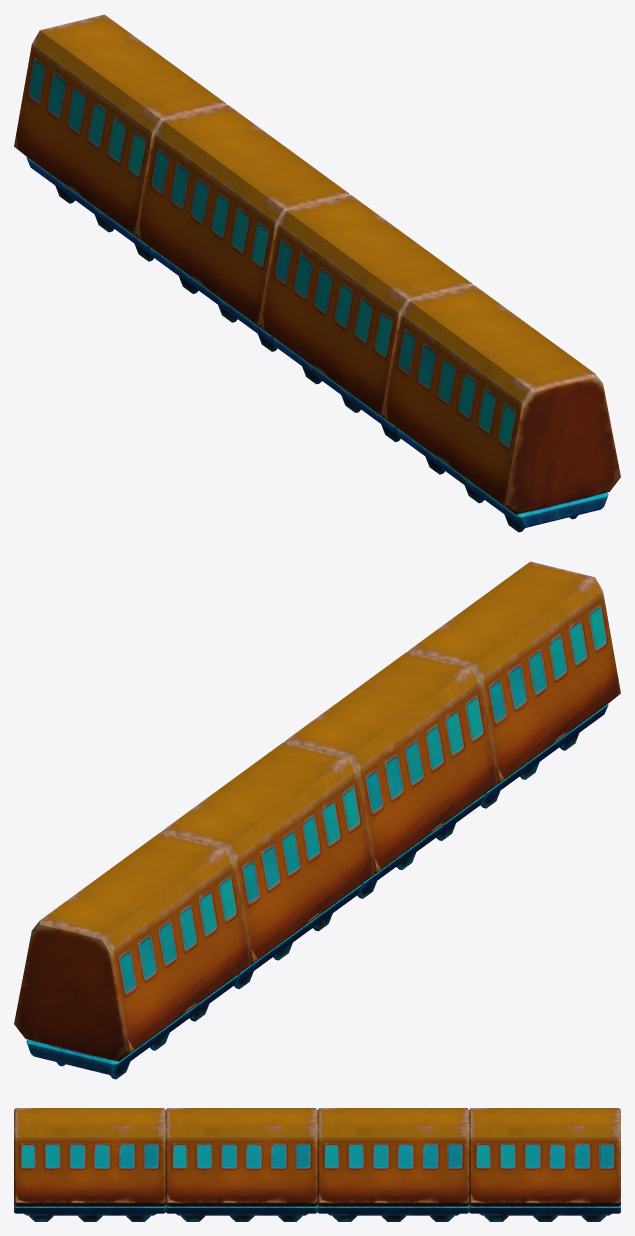
Rendered from env-train.glb.
3 renders of one model, top to bottom at view 1: azimuth 30°, elevation 25°; view 2: azimuth 150°, elevation 25°; view 3: azimuth 270°, elevation 25°, orthographic. The views are drawn at different scales.
Parts seen in each view (by area): view 1: Object_10; view 2: Object_10; view 3: Object_10.
Part boxes in pixels (left/top/right/bottom): Object_10: left=14, top=14, right=620, bottom=532; Object_10: left=14, top=561, right=620, bottom=1079; Object_10: left=14, top=1108, right=620, bottom=1221.
Size of the model in its own units: 2.68 by 3.43 by 19.69.
1 material, 1 textured.
